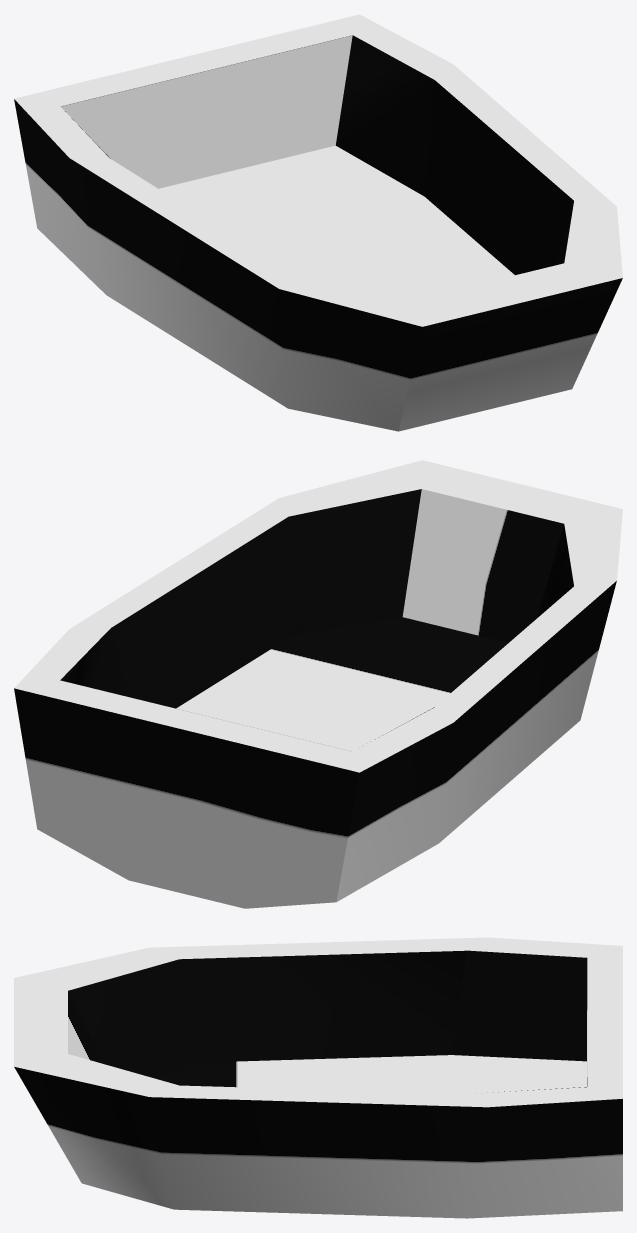
The model's file is boatHull.obj.
The picture shows the model from 3 angles, top to bottom: view 1: azimuth 30°, elevation 25°; view 2: azimuth 150°, elevation 25°; view 3: azimuth 270°, elevation 25°; orthographic projection. The views are drawn at different scales.
Visible parts, largest first — view 1: Box001; view 2: Box001; view 3: Box001.
Part boxes in pixels (left/top/right/bottom): Box001: left=14, top=14, right=622, bottom=431; Box001: left=14, top=460, right=622, bottom=908; Box001: left=14, top=937, right=622, bottom=1218.
Size of the model in its own units: 29.7 by 12.12 by 45.
